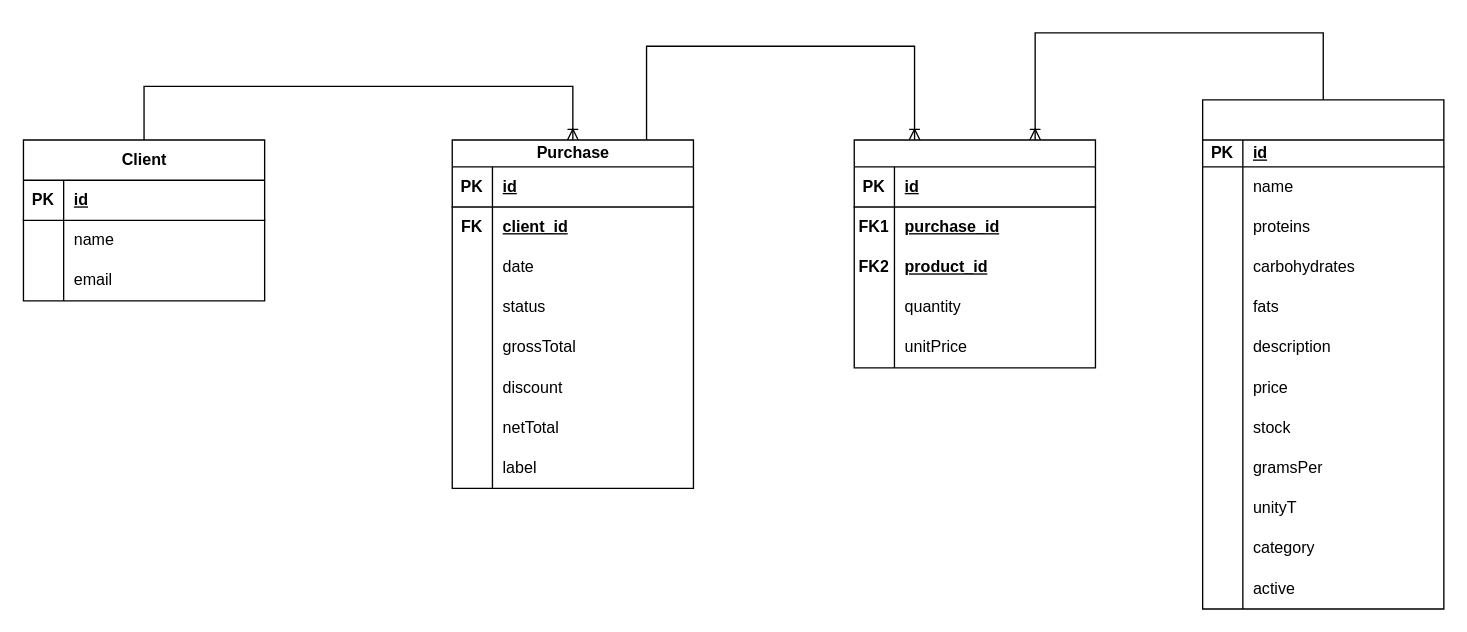
The diagram is 1467 pixels wide and 632 high, and some of its shapes have lost their labels. Each missing label, with the box of its shape:
Product: (1201, 98, 1444, 609)
PurchaseDetails: (853, 139, 1095, 368)
